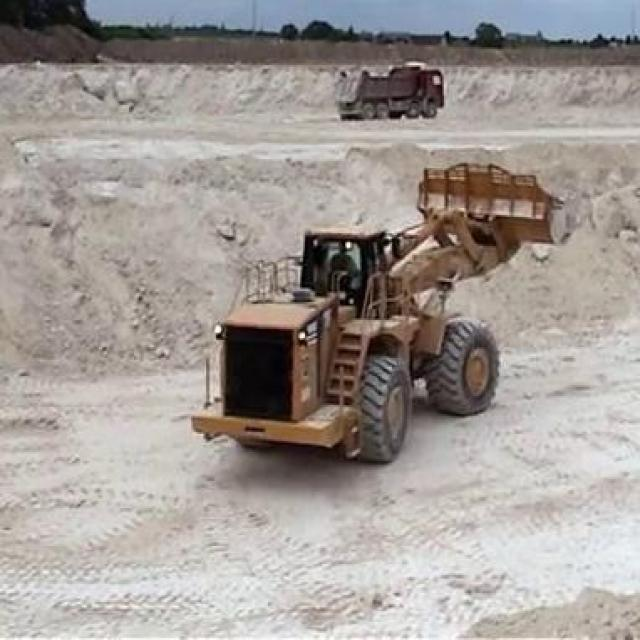Dump Truck: (328, 60, 444, 116)
Loader: (171, 156, 575, 467)
